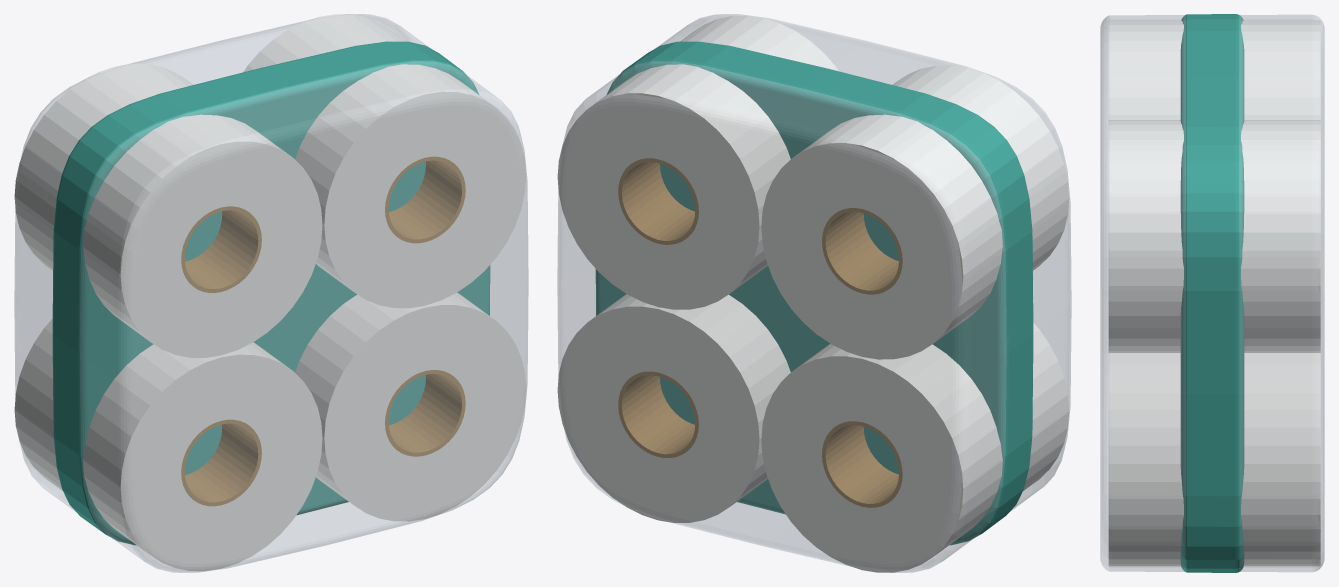
Rendered from papel_higienico_fardo_4_rolos.obj.
The picture shows the model from 3 angles, left to right: view 1: azimuth 30°, elevation 25°; view 2: azimuth 150°, elevation 25°; view 3: azimuth 270°, elevation 25°; orthographic projection.
Visible parts, largest first — view 1: papel_higienico_fardo_4_rolos_plastico, papel_higienico_fardo_4_rolos_papel, papel_higienico_fardo_4_rolos_rotulo, papel_higienico_fardo_4_rolos_tubete; view 2: papel_higienico_fardo_4_rolos_plastico, papel_higienico_fardo_4_rolos_papel, papel_higienico_fardo_4_rolos_rotulo, papel_higienico_fardo_4_rolos_tubete; view 3: papel_higienico_fardo_4_rolos_plastico, papel_higienico_fardo_4_rolos_papel, papel_higienico_fardo_4_rolos_rotulo.
Part boxes in pixels (<box>): papel_higienico_fardo_4_rolos_plastico: <box>14,14,528,572</box>; papel_higienico_fardo_4_rolos_papel: <box>14,14,526,571</box>; papel_higienico_fardo_4_rolos_rotulo: <box>52,41,490,545</box>; papel_higienico_fardo_4_rolos_tubete: <box>181,156,465,506</box>; papel_higienico_fardo_4_rolos_plastico: <box>557,14,1071,572</box>; papel_higienico_fardo_4_rolos_papel: <box>557,15,1069,572</box>; papel_higienico_fardo_4_rolos_rotulo: <box>595,41,1033,545</box>; papel_higienico_fardo_4_rolos_tubete: <box>618,158,902,507</box>; papel_higienico_fardo_4_rolos_plastico: <box>1100,14,1324,572</box>; papel_higienico_fardo_4_rolos_papel: <box>1108,20,1320,566</box>; papel_higienico_fardo_4_rolos_rotulo: <box>1180,14,1244,572</box>.
Size of the model in its own units: 225 by 225 by 106.
